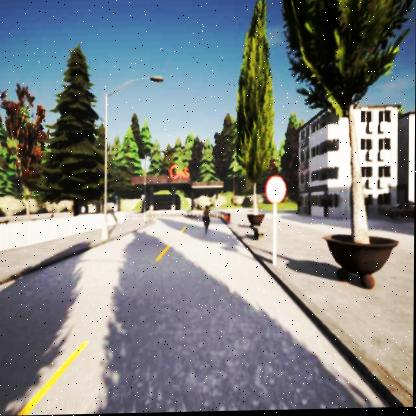motobike: (203, 206, 212, 233)
